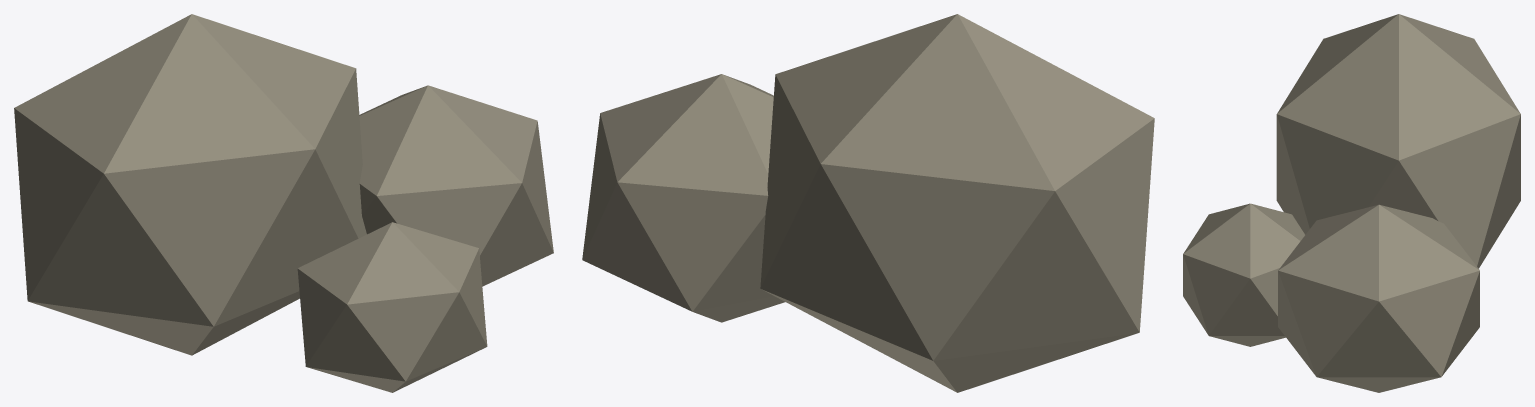
The model's file is scenery_rocks.glb.
3 renders of one model, left to right at view 1: azimuth 30°, elevation 25°; view 2: azimuth 150°, elevation 25°; view 3: azimuth 270°, elevation 25°, orthographic. The views are drawn at different scales.
Visible parts, largest first — view 1: scenery_rocks__part_000; view 2: scenery_rocks__part_000; view 3: scenery_rocks__part_000.
Boxes of the visible parts, x1,y1,x2,y2 form: scenery_rocks__part_000: [14, 14, 553, 392]; scenery_rocks__part_000: [582, 14, 1154, 392]; scenery_rocks__part_000: [1183, 14, 1520, 392].
Bounding box in the file's own units: 0.9767 × 0.64 × 0.6828.
